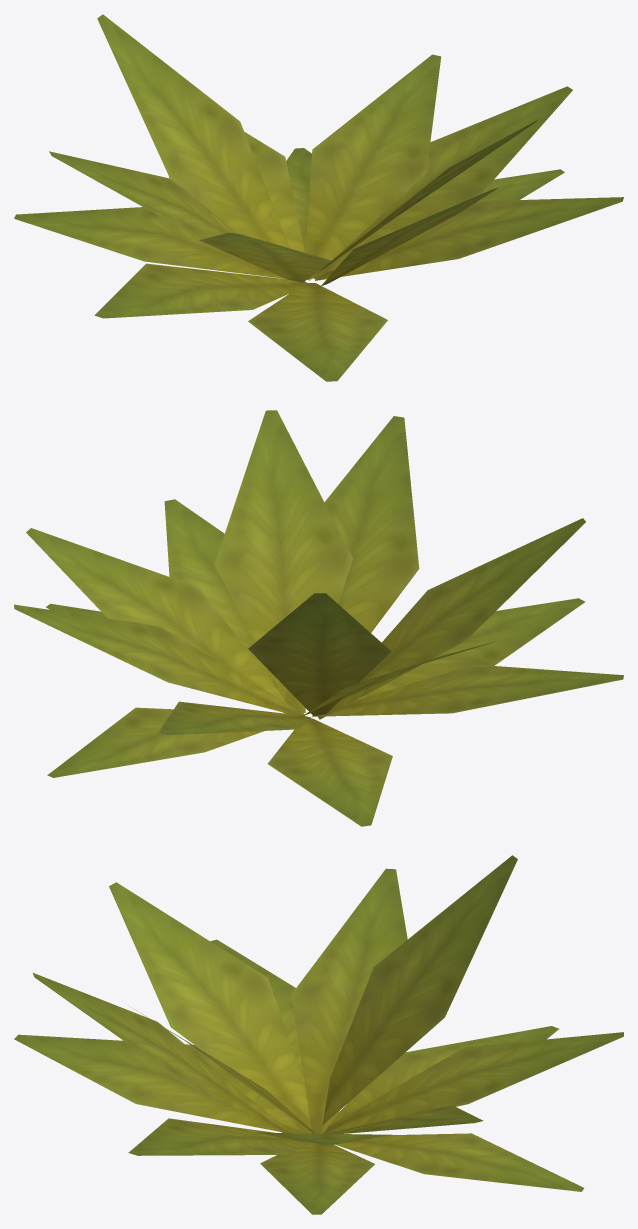
File: fern 01_lod3.obj
The picture shows the model from 3 angles, top to bottom: view 1: azimuth 30°, elevation 25°; view 2: azimuth 150°, elevation 25°; view 3: azimuth 270°, elevation 25°; orthographic projection.
Parts seen in each view (by area): view 1: tree; view 2: tree; view 3: tree.
Part boxes in pixels (<box>): tree: <box>14,14,623,381</box>; tree: <box>14,410,623,826</box>; tree: <box>14,855,623,1214</box>.
Bounding box in the file's own units: 196 × 77.32 × 191.
